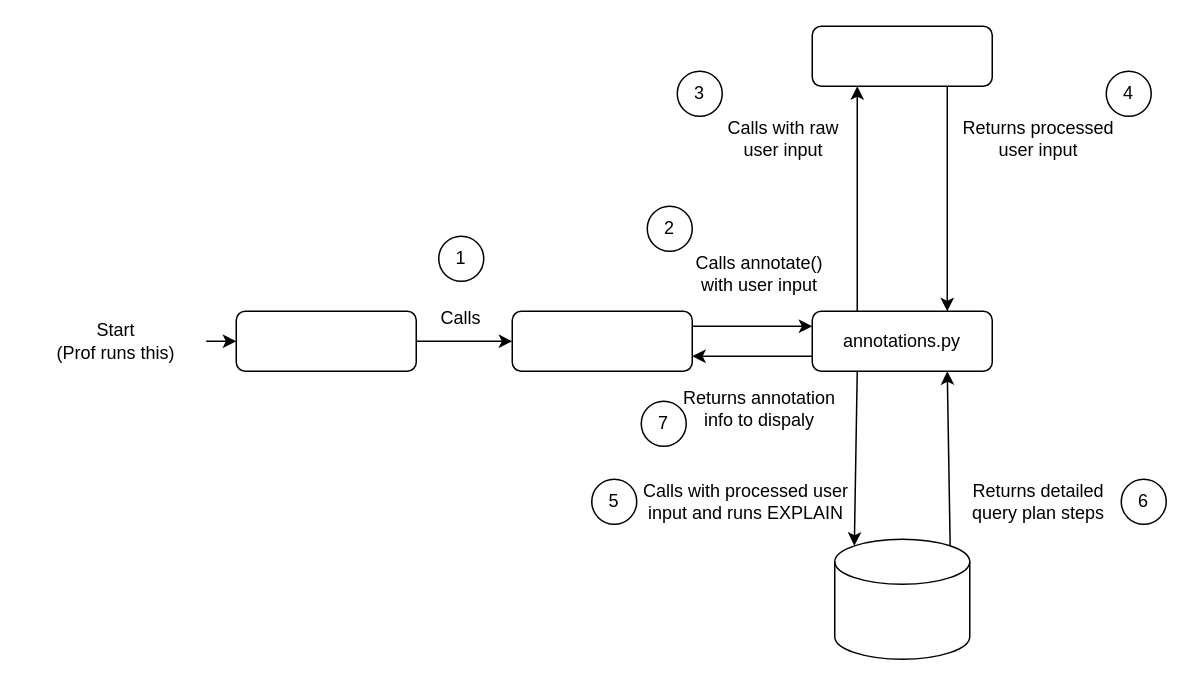
Some shapes in this 1193 by 686 pixel diagram are drawn without their labels. Each missing label, with the box of its shape:
interface.py: (511, 310, 692, 371)
PostgreSQL: (833, 538, 970, 659)
preprocessing.py: (811, 25, 992, 86)
project.py: (235, 310, 416, 371)
